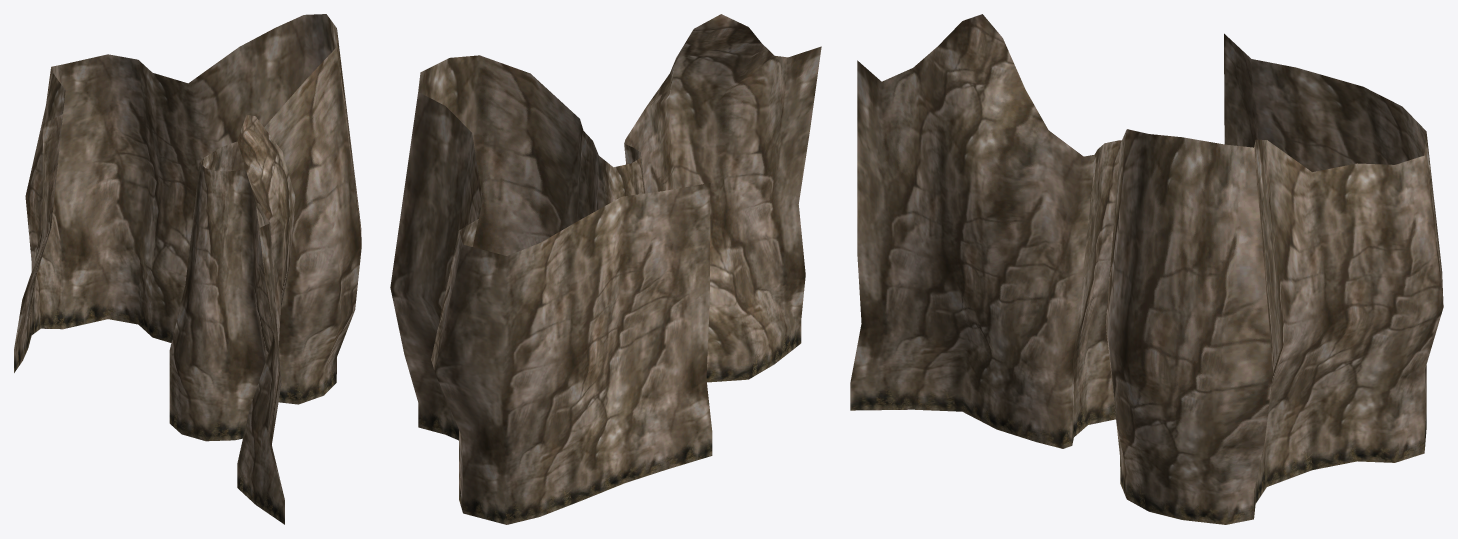
File: OVERHILL_A_01_LINE56.fbx
3 renders of one model, left to right at view 1: azimuth 30°, elevation 25°; view 2: azimuth 150°, elevation 25°; view 3: azimuth 270°, elevation 25°, orthographic. The views are drawn at different scales.
Visible parts, largest first — view 1: OVERHILL_A_01_LINE56; view 2: OVERHILL_A_01_LINE56; view 3: OVERHILL_A_01_LINE56.
Part boxes in pixels (x1,y1,x2,y2): OVERHILL_A_01_LINE56: (14, 14, 361, 524); OVERHILL_A_01_LINE56: (390, 14, 821, 524); OVERHILL_A_01_LINE56: (850, 14, 1443, 524).
Size of the model in its own units: 97525 by 106242 by 140087.
Materials: 2 (2 with a texture image).
